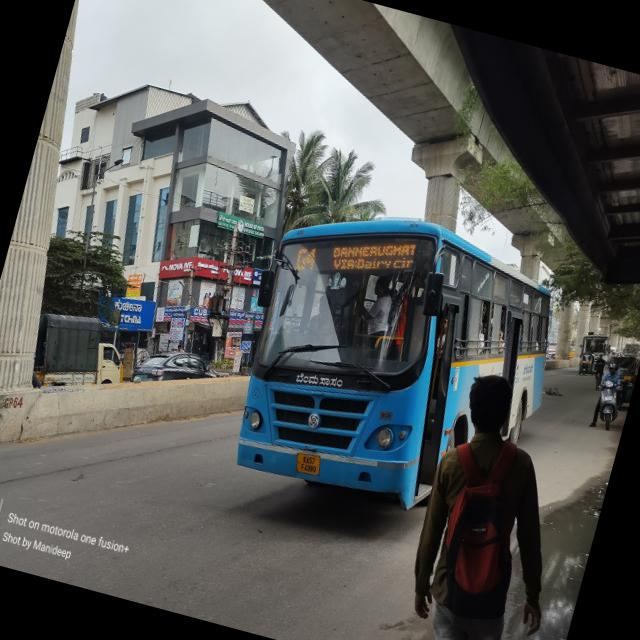bus: (208, 183, 606, 558)
display: (279, 208, 432, 304)
dnumber: (289, 236, 326, 279)
